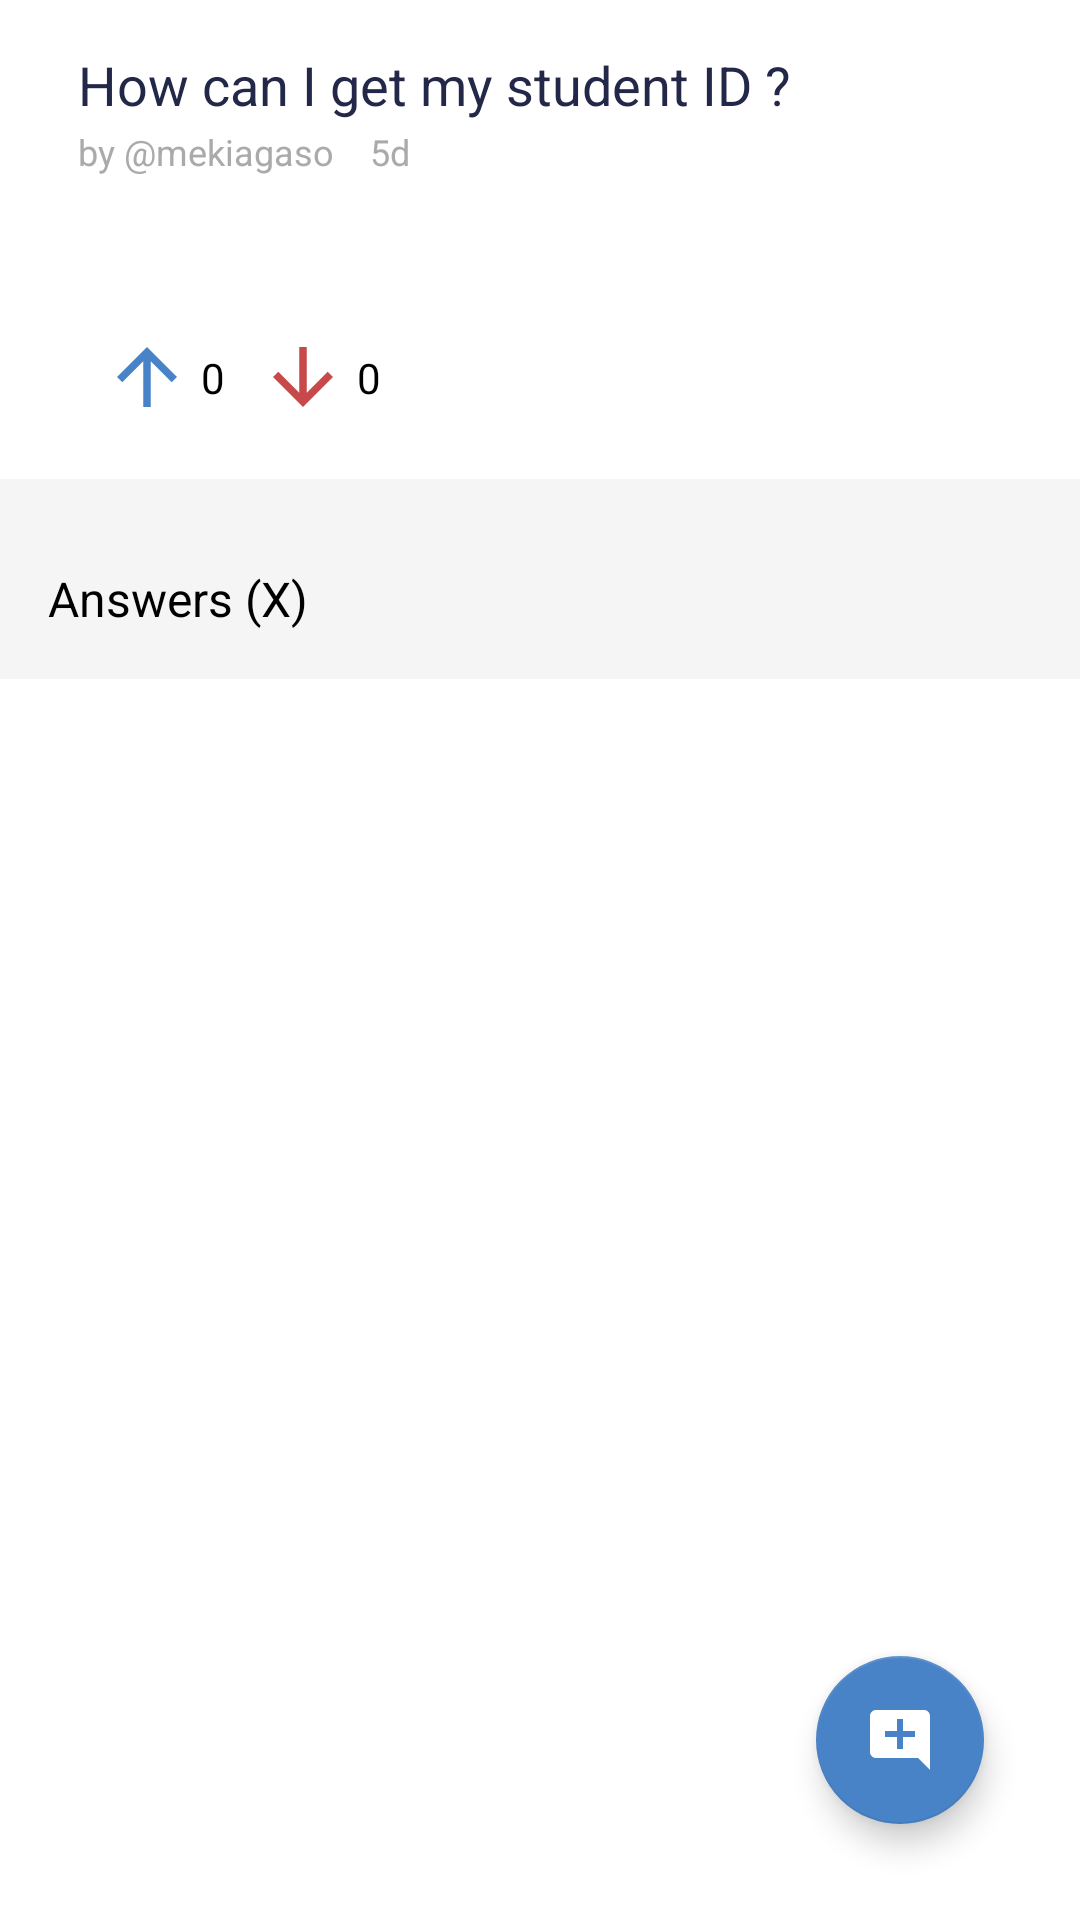

Icons on this 1080 x 1920 Android screen, each with the point to tap as (x=x, y=y):
comment: (x=900, y=1740)
downvote: (x=303, y=377)
upvote: (x=147, y=377)
